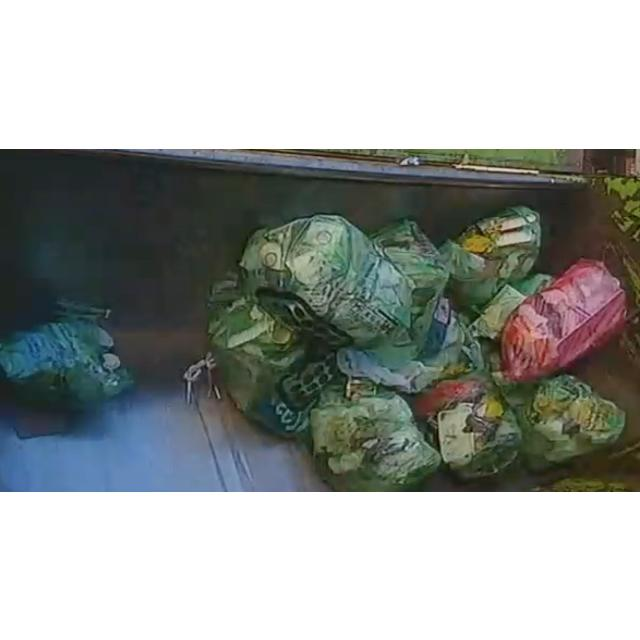general_trashbag: (240, 213, 411, 348), (0, 300, 134, 437), (209, 294, 335, 435), (310, 384, 441, 490), (365, 218, 449, 370), (412, 374, 521, 477), (440, 206, 541, 307), (518, 374, 625, 467), (569, 412, 574, 416)
other_trashbag: (501, 258, 626, 381)
